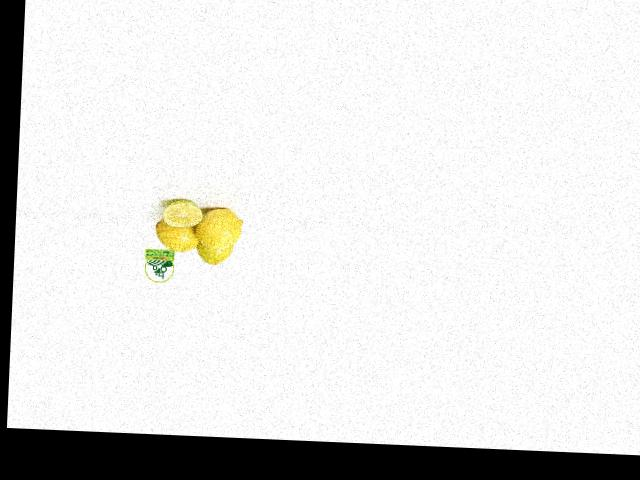lemon: (195, 204, 247, 249)
